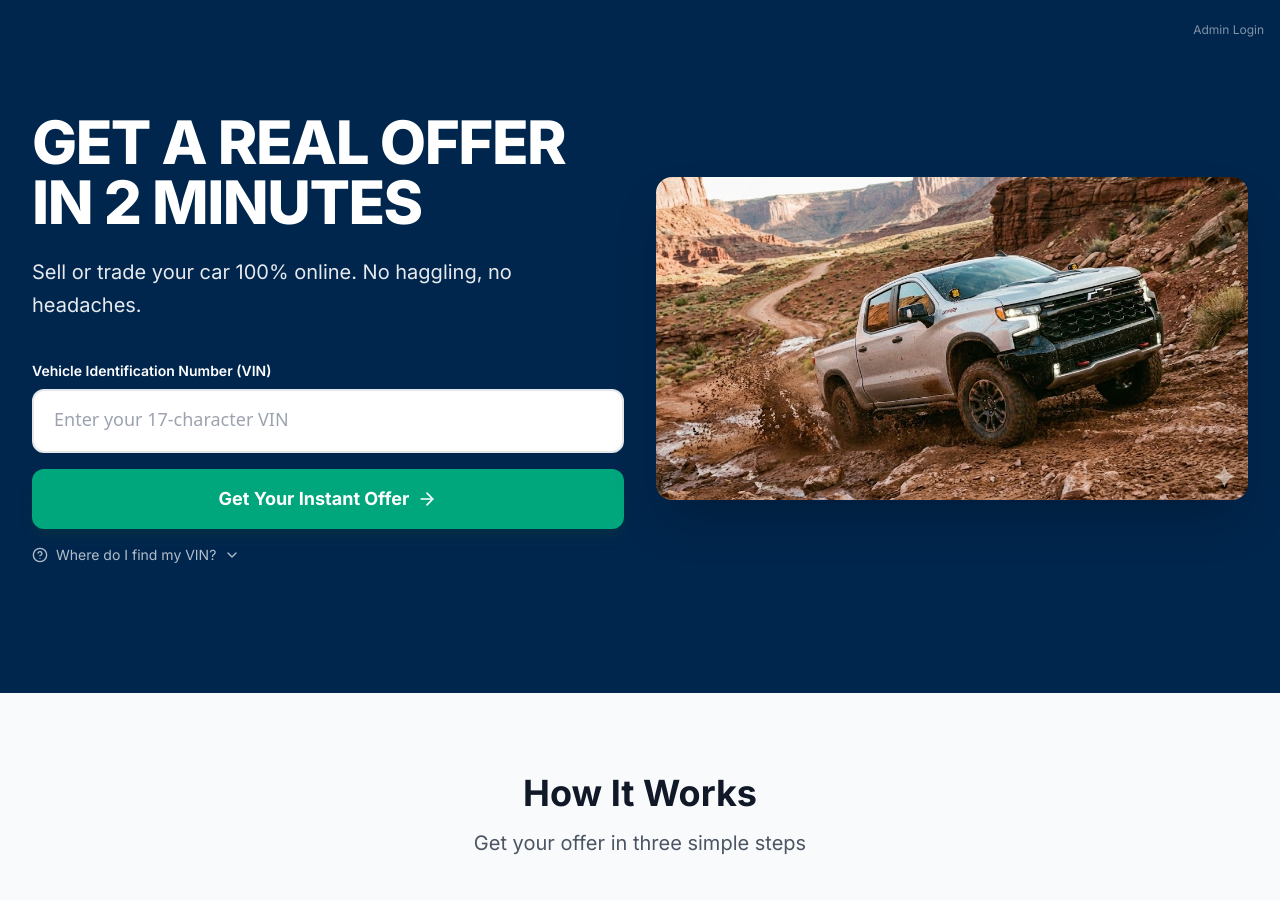
Test case: HomePage › VIN input validation › shows error when VIN is empty on submit
Click the button "Get Your Instant Offer".
click(328, 499)  # box top-left (32, 469), bottom-right (624, 529)
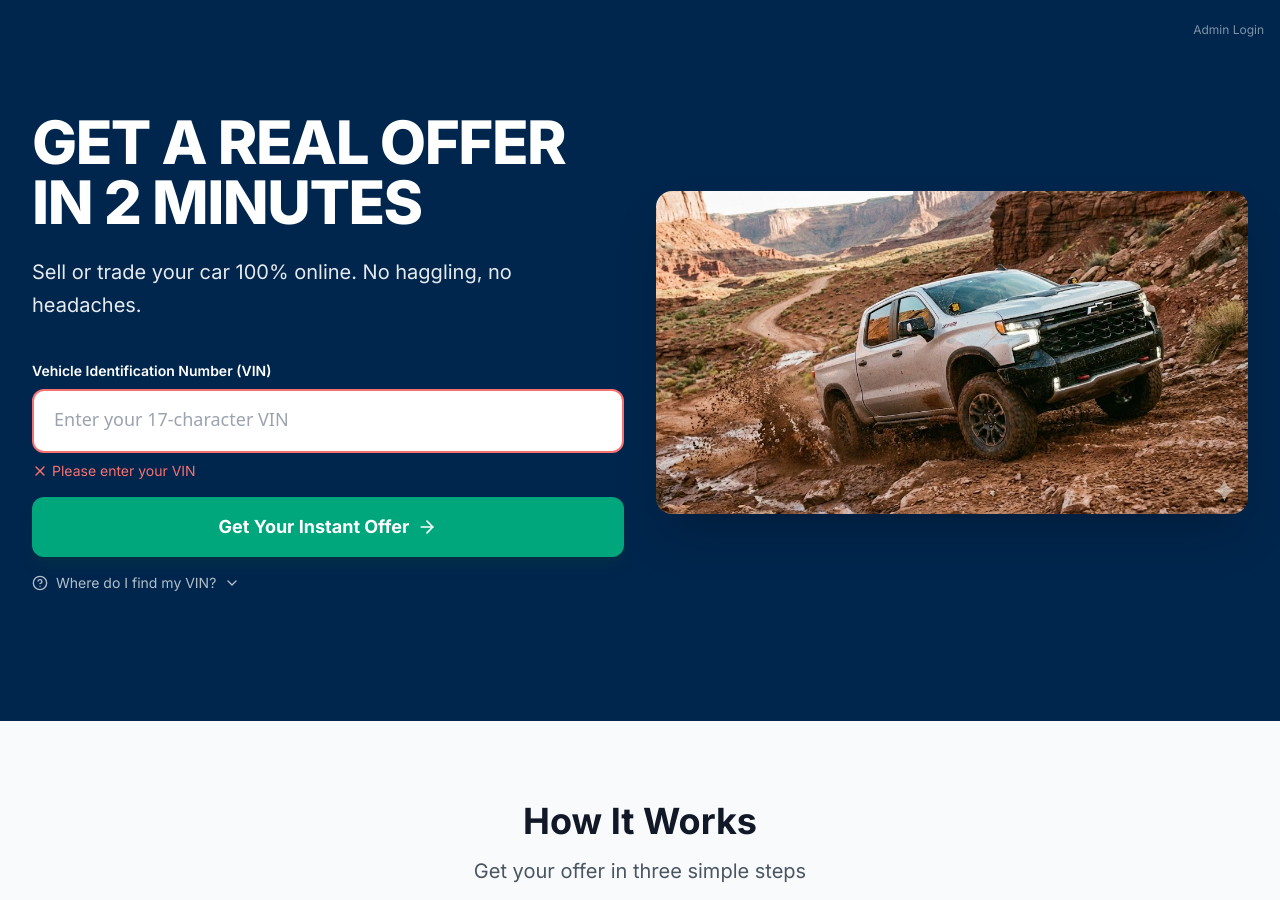
Result: the text "Please enter your VIN" is shown at top-left (32, 462), bottom-right (196, 479)
